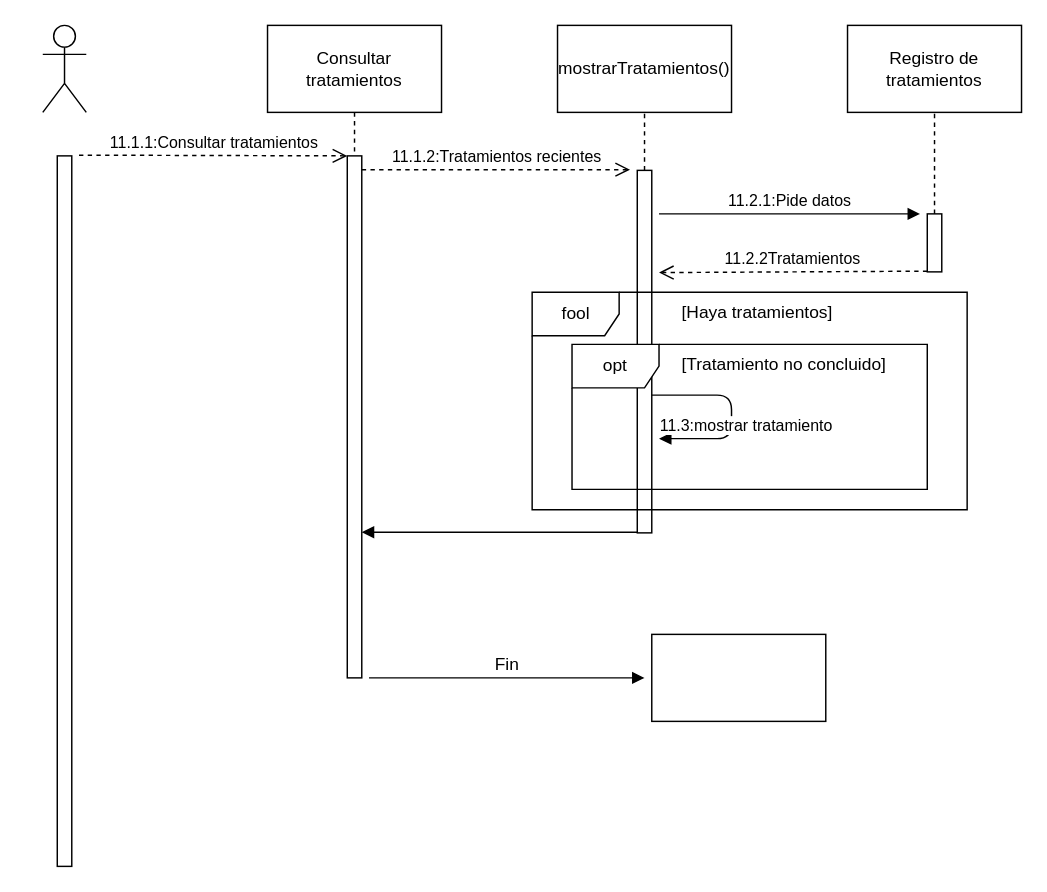
Some shapes in this 1047 by 892 pixel diagram are drawn without their labels. The centre of each missing label's shape, as x and y in pixels:
Gestionar tratamientos: the point at 738,677
Secretario: the point at 63,68
